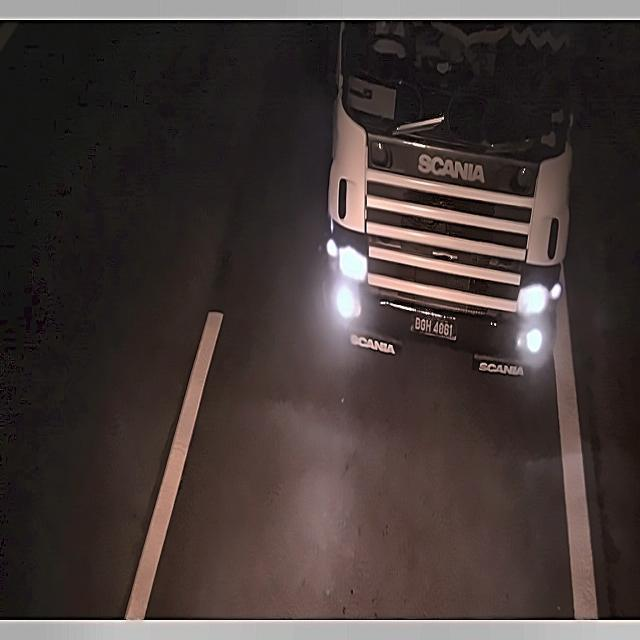car: (406, 298, 462, 346)
